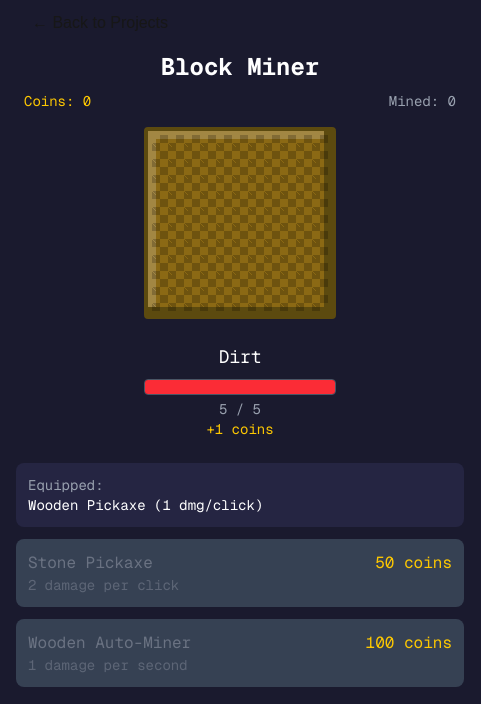
BlockMinerPage › damages the block on click
This screenshot has width=481, height=704.
Step 1. Click the element with class "cursor-pointer" → click(240, 223), box [144,127,336,319]
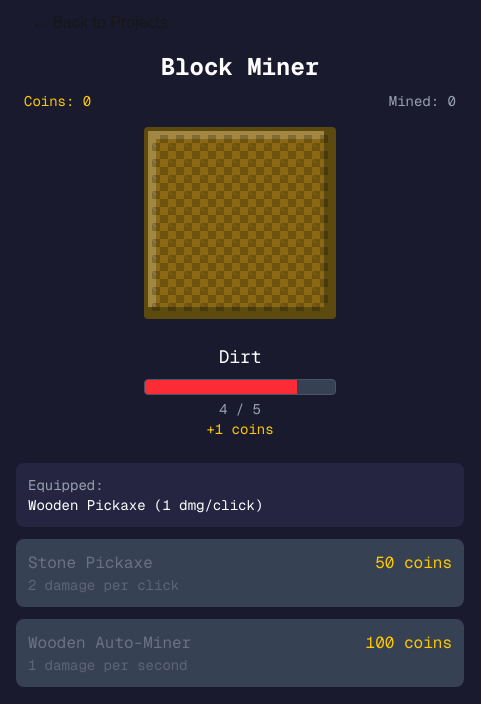
Expected: the text "4 / 5" is shown, [219,400,261,418]
